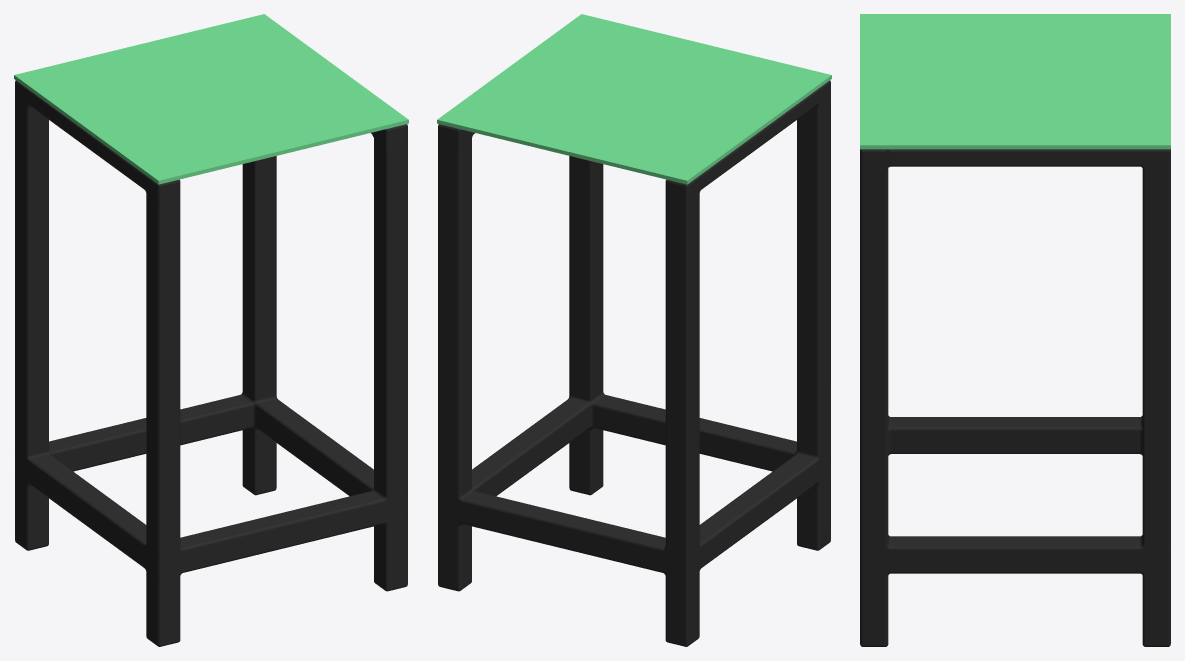
File: podest.fbx
3 views of the same model, side by side, from view 1: azimuth 30°, elevation 25°; view 2: azimuth 150°, elevation 25°; view 3: azimuth 270°, elevation 25° (orthographic). The views are drawn at different scales.
Parts seen in each view (by area): view 1: Cube.001, Cube; view 2: Cube.001, Cube; view 3: Cube.001, Cube.
Part boxes in pixels (x1,y1,x2,y2): Cube.001: [15, 80, 407, 646]; Cube: [14, 14, 408, 184]; Cube.001: [438, 80, 830, 646]; Cube: [437, 14, 831, 184]; Cube.001: [860, 149, 1170, 646]; Cube: [860, 14, 1170, 149].
Bounding box in the file's own units: 200 × 357 × 200.
